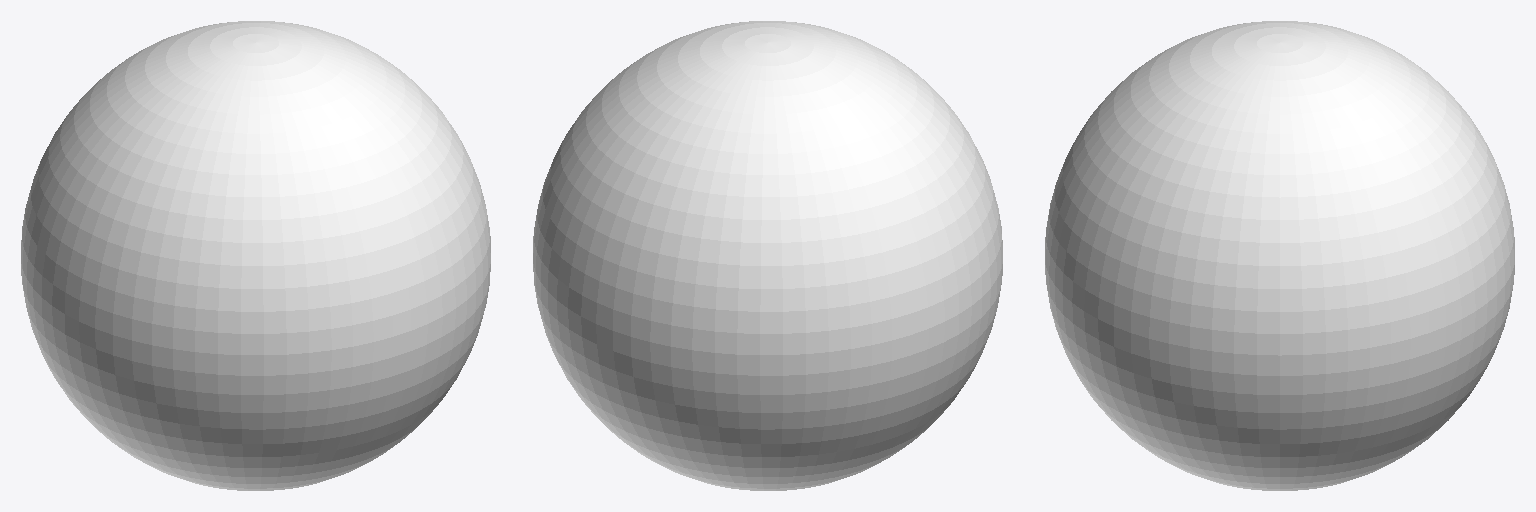
File: uranus.obj
The picture shows the model from 3 angles: view 1: azimuth 30°, elevation 25°; view 2: azimuth 150°, elevation 25°; view 3: azimuth 270°, elevation 25°; orthographic projection.
Visible parts, largest first — view 1: Sphere001.007; view 2: Sphere001.007; view 3: Sphere001.007.
Boxes of the visible parts, x1=… form: Sphere001.007: x1=21, y1=21, x2=490, y2=490; Sphere001.007: x1=533, y1=21, x2=1002, y2=490; Sphere001.007: x1=1045, y1=21, x2=1514, y2=490.
Size of the model in its own units: 40 by 40 by 40.